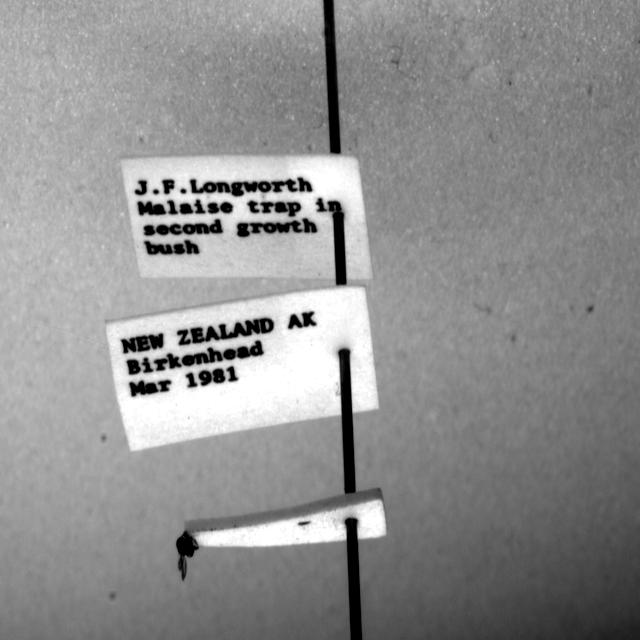typed_label: (106, 287, 379, 450), (121, 154, 372, 279)
